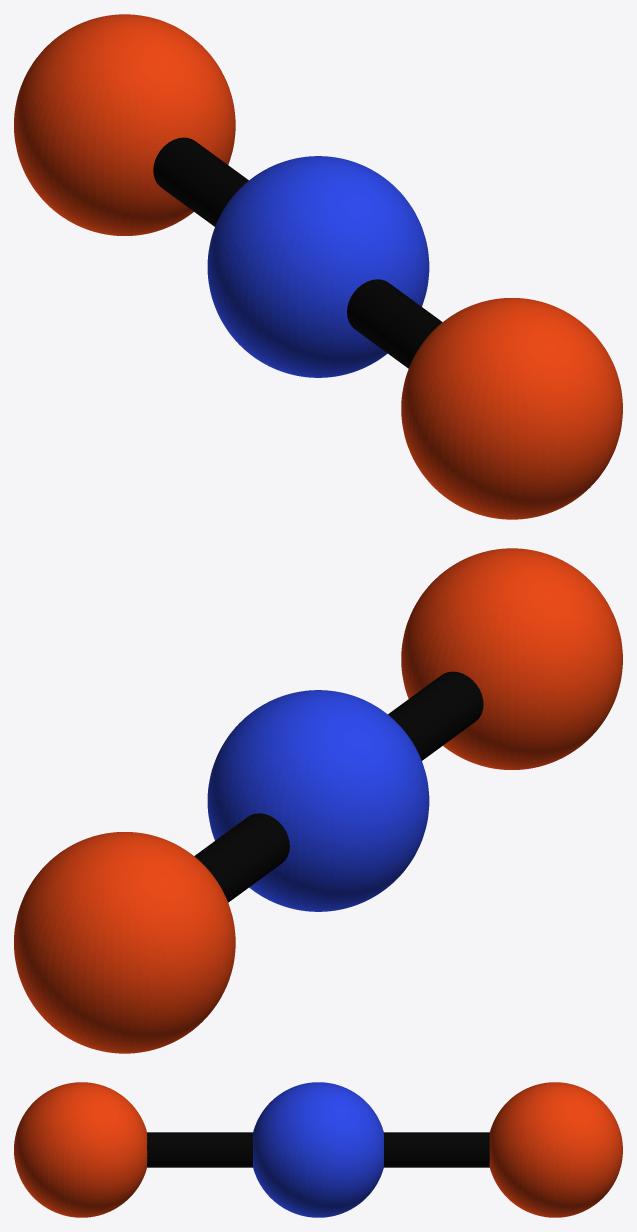
File: linear.glb
The picture shows the model from 3 angles, top to bottom: view 1: azimuth 30°, elevation 25°; view 2: azimuth 150°, elevation 25°; view 3: azimuth 270°, elevation 25°; orthographic projection. The views are drawn at different scales.
Parts seen in each view (by area): view 1: Sphere.001, Sphere, Sphere.002, Cylinder, Cylinder.001; view 2: Sphere.002, Sphere, Sphere.001, Cylinder.001, Cylinder; view 3: Sphere.002, Sphere.001, Sphere, Cylinder, Cylinder.001.
Boxes of the visible parts, <box> form: Sphere.001: <box>401,298,622,519</box>; Sphere: <box>207,156,429,377</box>; Sphere.002: <box>14,14,235,235</box>; Cylinder: <box>153,137,248,226</box>; Cylinder.001: <box>347,279,442,368</box>; Sphere.002: <box>14,832,235,1053</box>; Sphere: <box>207,690,429,911</box>; Sphere.001: <box>401,548,622,769</box>; Cylinder.001: <box>388,671,483,760</box>; Cylinder: <box>194,813,289,902</box>; Sphere.002: <box>489,1082,622,1217</box>; Sphere.001: <box>14,1082,147,1217</box>; Sphere: <box>253,1082,383,1217</box>; Cylinder: <box>384,1132,489,1167</box>; Cylinder.001: <box>147,1132,252,1167</box>.
Size of the model in its own units: 0.5725 by 0.5727 by 2.57.
